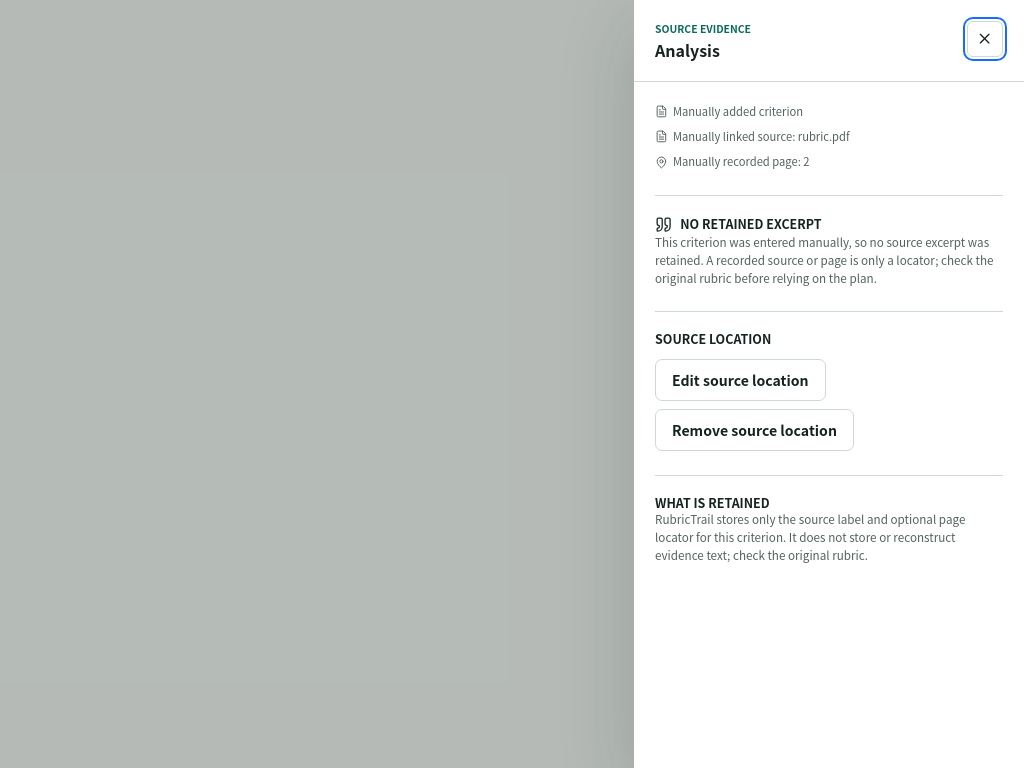
Test case: UploadedEvidencePanel › keeps a failed locator removal visible as an alert
Click the button with test id "remove-locator": click(754, 430) [655,409,854,451]
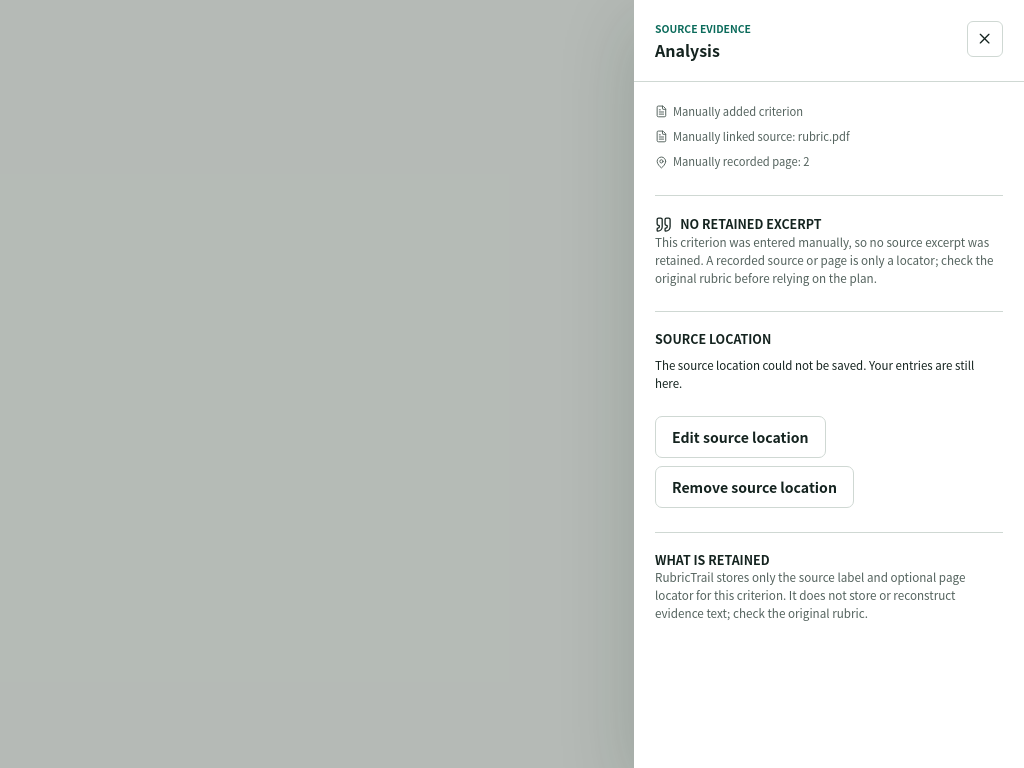
expect the button with test id "edit-locator" is shown: met, box [655,416,826,458]
expect the message shows "could not be saved": met, box [655,357,974,391]
